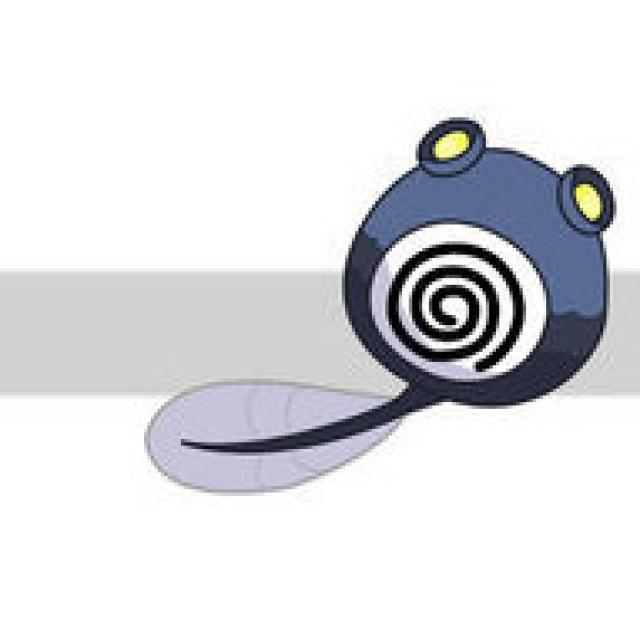Poliwag: (288, 116, 624, 453)
